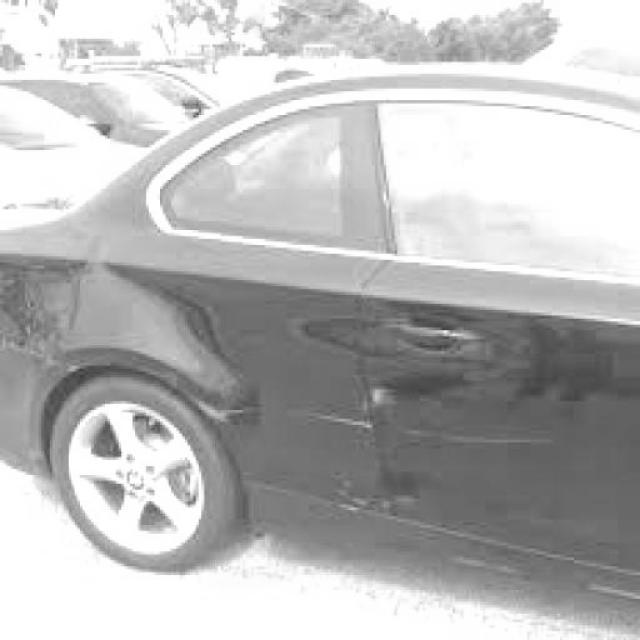car damage: (192, 399, 561, 458), (333, 460, 446, 520)
